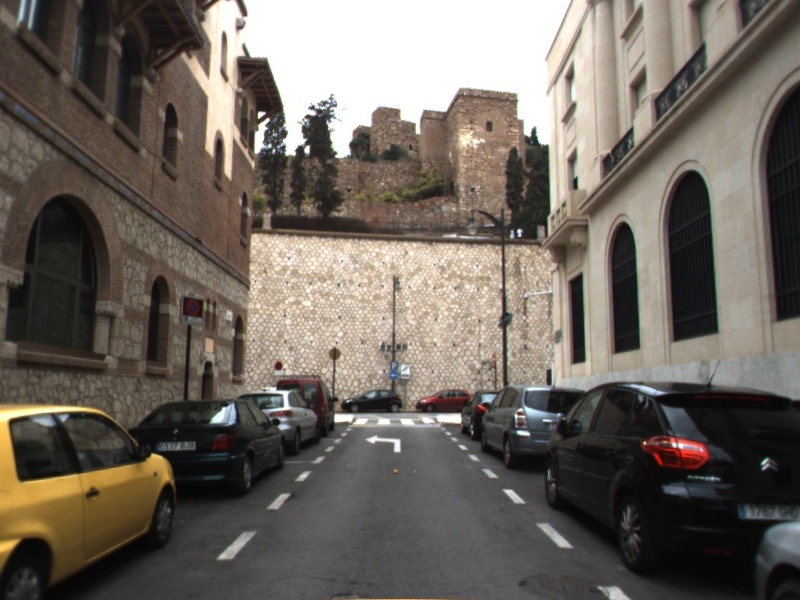LEFT: (363, 433, 403, 454)
